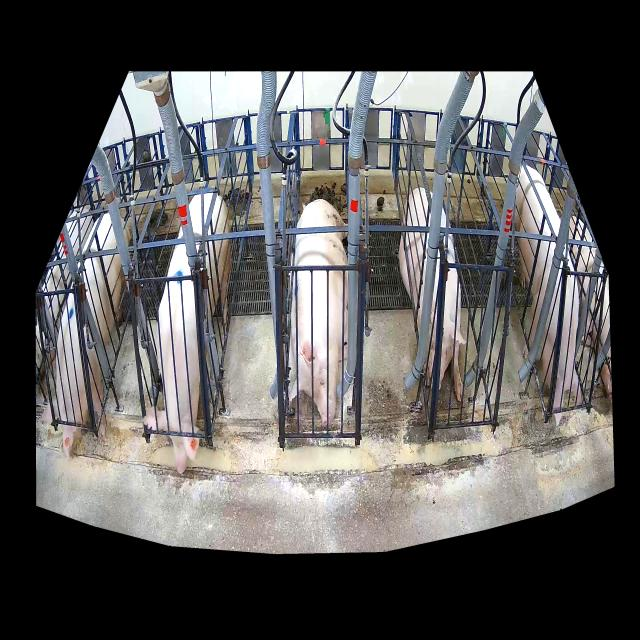pig: (143, 193, 230, 473), (42, 213, 126, 457), (514, 164, 582, 409), (399, 187, 467, 402), (288, 199, 348, 425)
